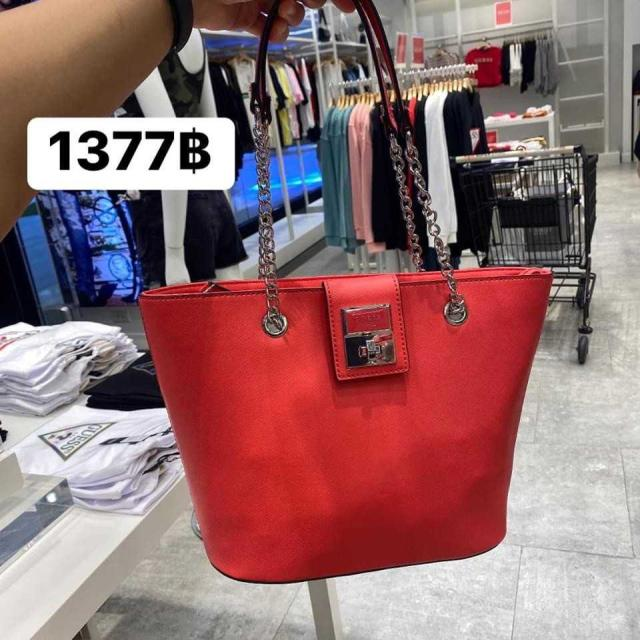Handbag: (142, 260, 571, 593)
